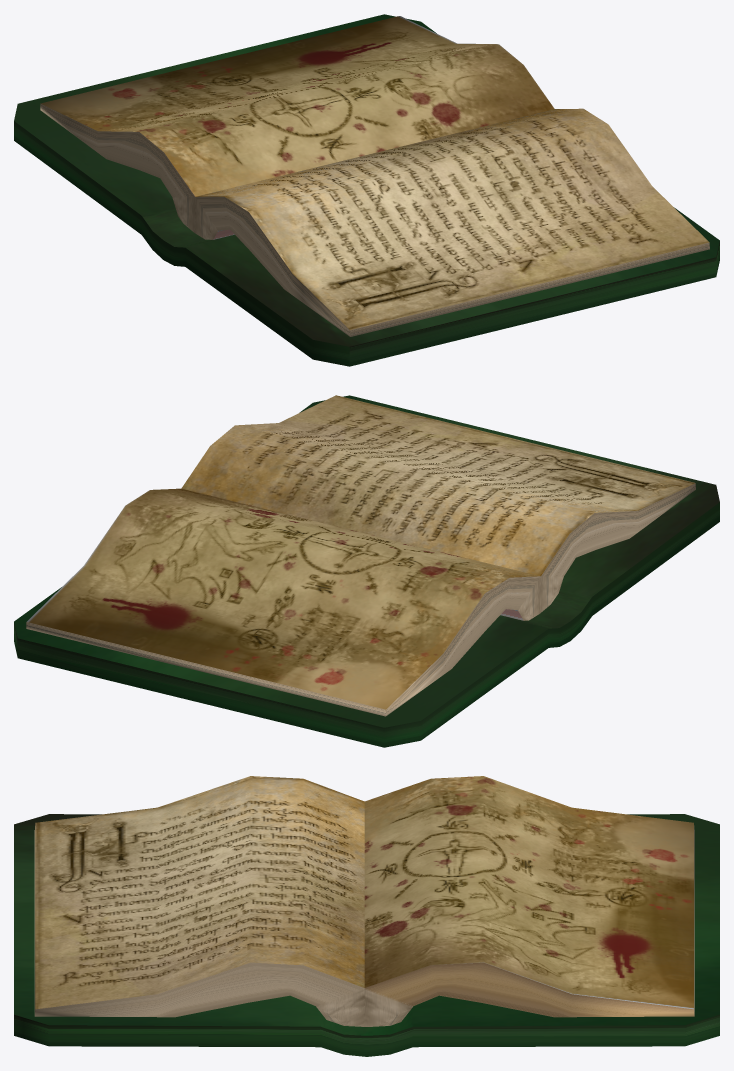
Rendered from Book_Open_1.fbx.
3 views of the same model, one above another, from view 1: azimuth 30°, elevation 25°; view 2: azimuth 150°, elevation 25°; view 3: azimuth 270°, elevation 25° (orthographic). The views are drawn at different scales.
Parts seen in each view (by area): view 1: BookOpen; view 2: BookOpen; view 3: BookOpen.
Boxes of the visible parts, box(x1,y1,x2,y2) form: BookOpen: box(14, 14, 719, 366); BookOpen: box(14, 395, 719, 747); BookOpen: box(14, 776, 719, 1056).
Bounding box in the file's own units: 33.7 × 6.38 × 47.61.
